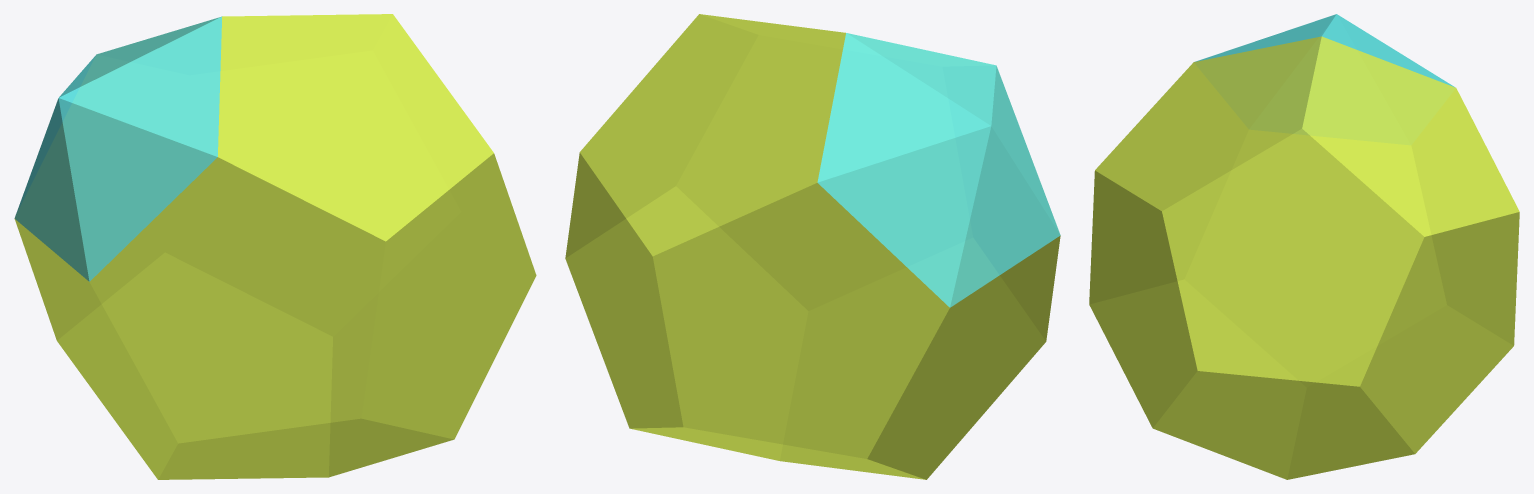
Rendered from j58_augmented_dodecahedron.obj.
3 renders of one model, left to right at view 1: azimuth 30°, elevation 25°; view 2: azimuth 150°, elevation 25°; view 3: azimuth 270°, elevation 25°, orthographic. The views are drawn at different scales.
Bounding box in the file's own units: 1.9 × 1.94 × 1.87.
